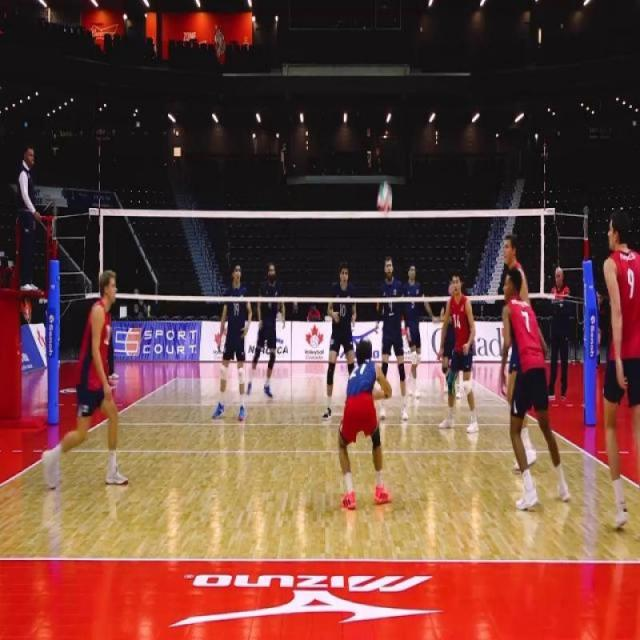volleyball: (376, 180, 393, 216)
